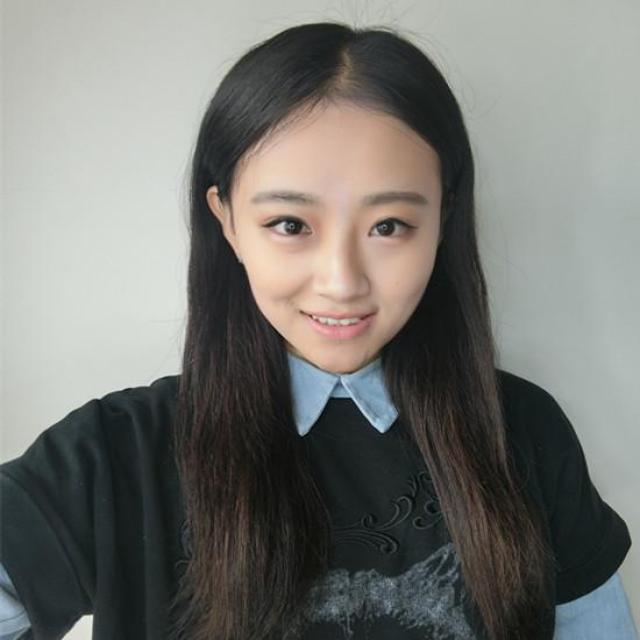Open: (366, 212, 427, 240), (260, 212, 313, 239)
